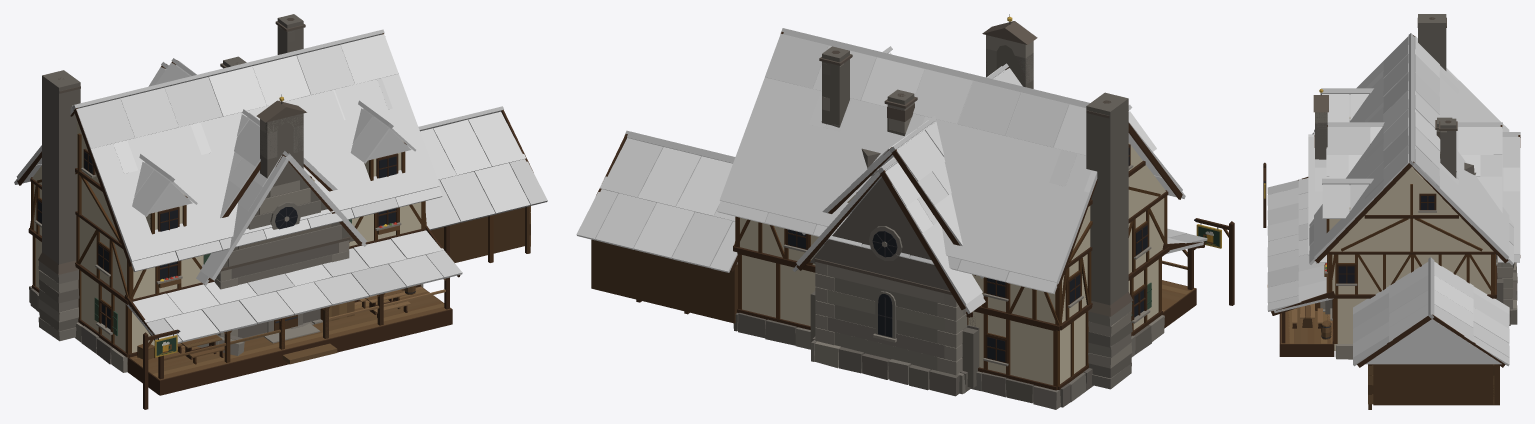
Rendered from buildings.glb.
3 renders of one model, left to right at view 1: azimuth 30°, elevation 25°; view 2: azimuth 150°, elevation 25°; view 3: azimuth 270°, elevation 25°, orthographic. The views are drawn at different scales.
Parts seen in each view (by area): view 1: inn, inn_lo, chapel, chapel_lo, human_house_large, human_house_large_lo; view 2: inn, inn_lo, chapel, chapel_lo, human_house_large, human_house_large_lo; view 3: inn, inn_lo, human_house_large, chapel, chapel_lo, human_house_large_lo.
Boxes of the visible parts, x1,y1,x2,y2 form: inn: [14, 18, 547, 409]; inn_lo: [16, 14, 524, 401]; chapel: [148, 62, 366, 343]; chapel_lo: [162, 67, 366, 338]; human_house_large: [155, 58, 332, 217]; human_house_large_lo: [173, 56, 337, 218]; inn: [576, 28, 1234, 409]; inn_lo: [591, 35, 1234, 383]; chapel: [792, 14, 1037, 396]; chapel_lo: [796, 45, 1033, 388]; human_house_large: [802, 63, 1022, 325]; human_house_large_lo: [822, 68, 1008, 245]; inn: [1263, 17, 1513, 409]; inn_lo: [1263, 14, 1509, 405]; human_house_large: [1326, 120, 1502, 176]; chapel: [1313, 88, 1520, 325]; chapel_lo: [1308, 112, 1520, 314]; human_house_large_lo: [1326, 117, 1502, 212].
Bounding box in the file's own units: 25.07 × 13.47 × 14.46.
